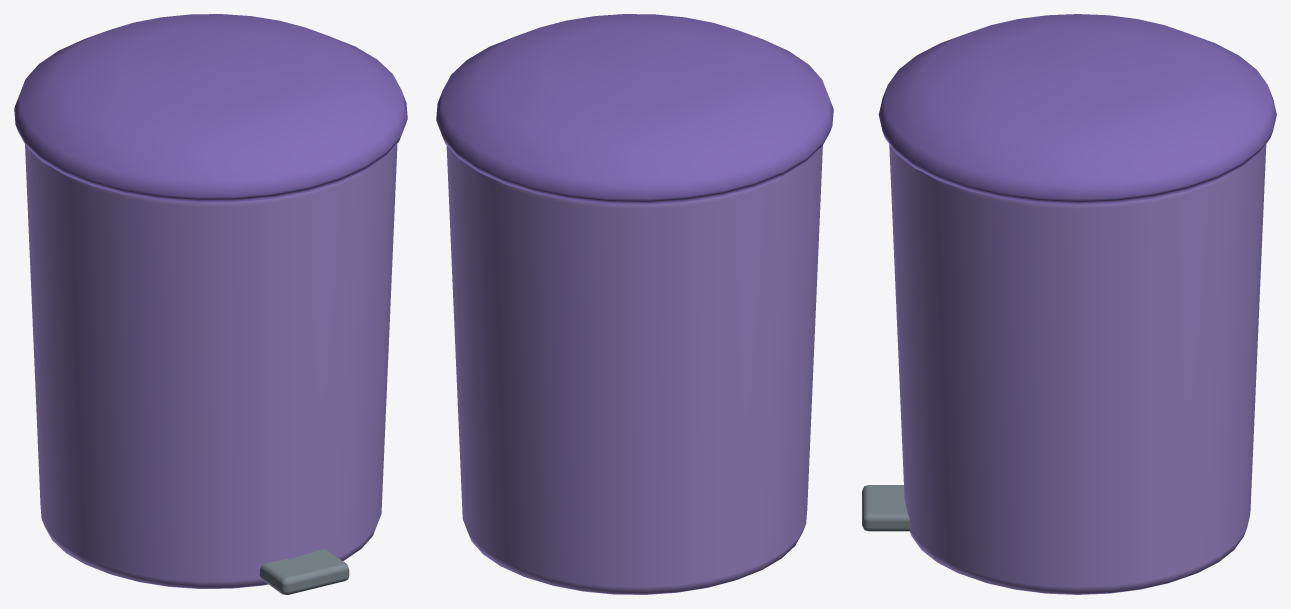
Rendered from SM_TrashBin.glb.
3 renders of one model, left to right at view 1: azimuth 30°, elevation 25°; view 2: azimuth 150°, elevation 25°; view 3: azimuth 270°, elevation 25°, orthographic.
Visible parts, largest first — view 1: SM_TrashBin, SM_TrashBin.Lid; view 2: SM_TrashBin, SM_TrashBin.Lid; view 3: SM_TrashBin, SM_TrashBin.Lid.
Boxes of the visible parts, x1,y1,x2,y2 form: SM_TrashBin: (25, 144, 397, 594); SM_TrashBin.Lid: (14, 14, 407, 202); SM_TrashBin: (446, 145, 822, 594); SM_TrashBin.Lid: (436, 14, 833, 204); SM_TrashBin: (862, 144, 1266, 594); SM_TrashBin.Lid: (878, 14, 1276, 204).
Size of the model in its own units: 0.6 by 0.764 by 0.625.
1 material, 1 textured.
